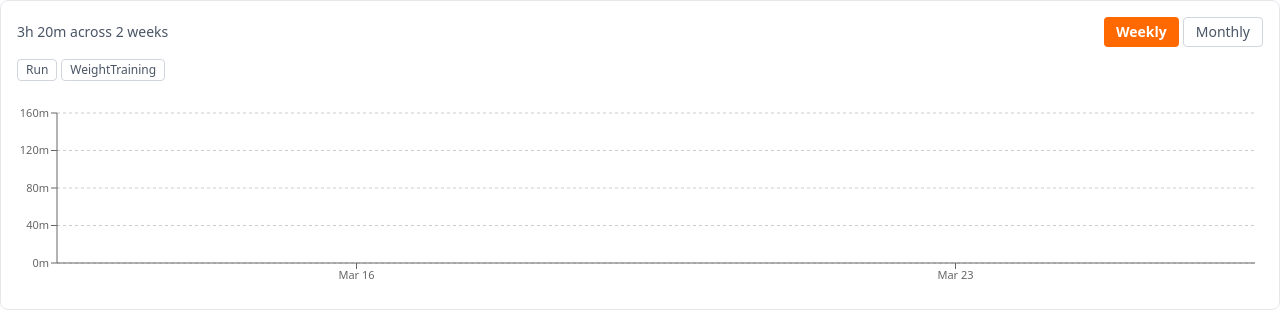
Test case: ActivityTrendsChart — US2 toggle › clicking Monthly updates the summary to show months
Click the button "Monthly": (1223, 32) [1183,17,1263,47]
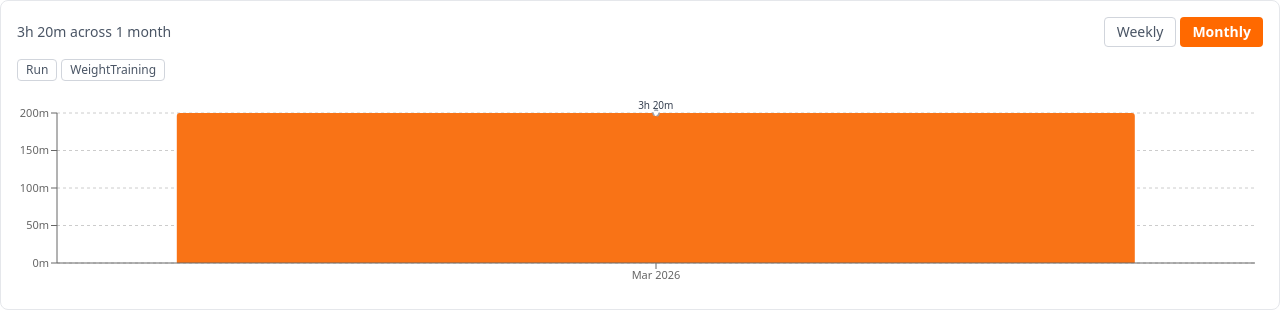
expect the text "3h 20m across 1 month" is shown: met, box [17,22,171,42]
